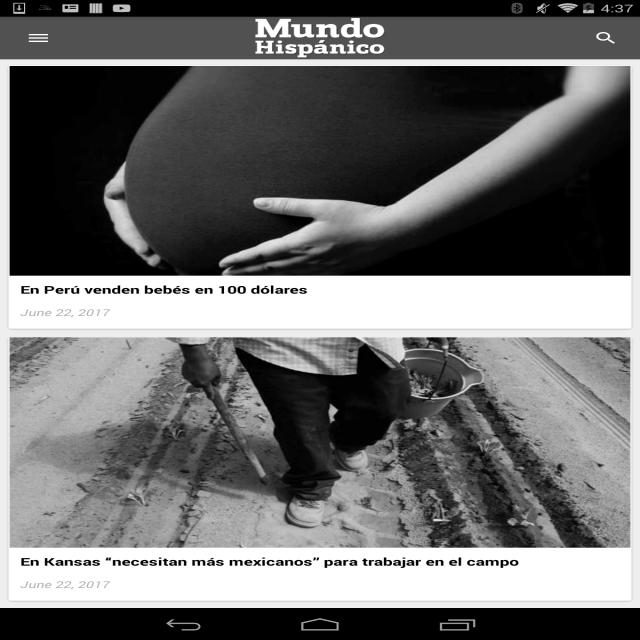ImageButton: (9, 17, 68, 59)
ImageView: (9, 337, 640, 547), (9, 66, 640, 275), (245, 17, 395, 59), (580, 22, 632, 54)
TextView: (14, 300, 626, 326), (14, 572, 626, 598), (14, 278, 626, 297), (14, 550, 626, 569)
